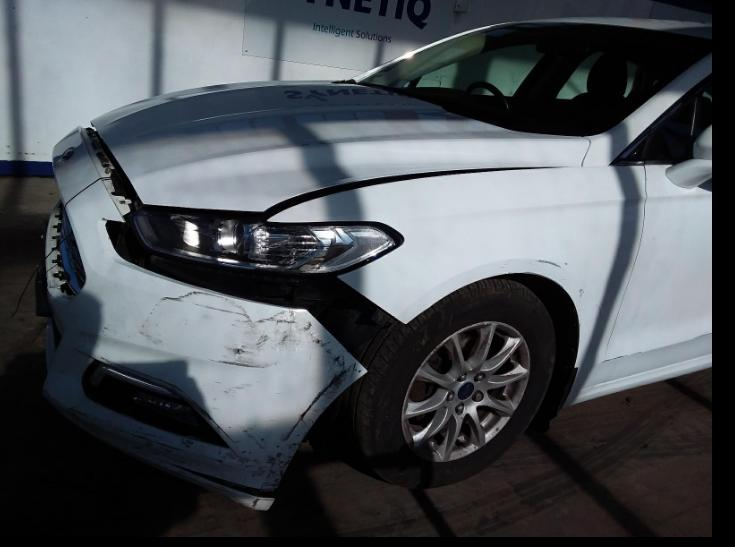Fender: (264, 166, 646, 402)
Front-bumper: (43, 126, 368, 511)
Front-door: (583, 165, 711, 384)
Front-wheel: (341, 279, 555, 489)
Front-window: (610, 70, 714, 165)
Grille: (58, 202, 86, 297)
Headlight: (135, 207, 399, 272)
Hood: (92, 80, 591, 213)
Mirror: (668, 159, 714, 190)
Rocker-panel: (569, 351, 713, 406)
Windshield: (361, 21, 713, 138)
